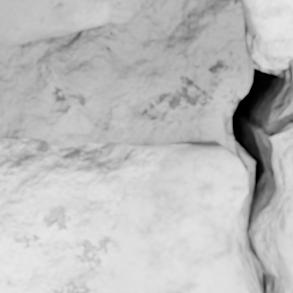brick: (0, 0, 141, 47), (244, 0, 292, 60)
broken_brick: (0, 137, 248, 292), (271, 122, 292, 274)
crack: (218, 0, 292, 292)
